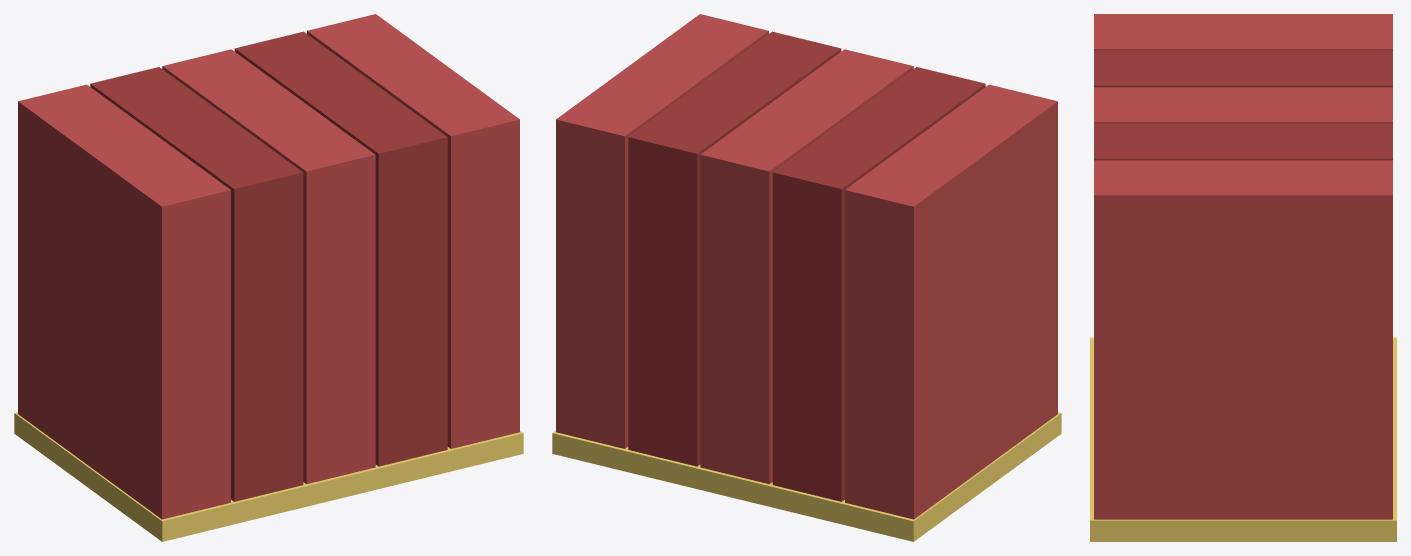
File: samurai_saia.glb
3 views of the same model, side by side, from view 1: azimuth 30°, elevation 25°; view 2: azimuth 150°, elevation 25°; view 3: azimuth 270°, elevation 25° (orthographic). The views are drawn at different scales.
Parts seen in each view (by area): view 1: samurai_saia; view 2: samurai_saia; view 3: samurai_saia.
Part boxes in pixels (x1,y1,x2,y2): samurai_saia: (14,14,523,541); samurai_saia: (552,14,1061,541); samurai_saia: (1090,14,1396,541).
Bounding box in the file's own units: 0.55 × 0.485 × 0.39.
